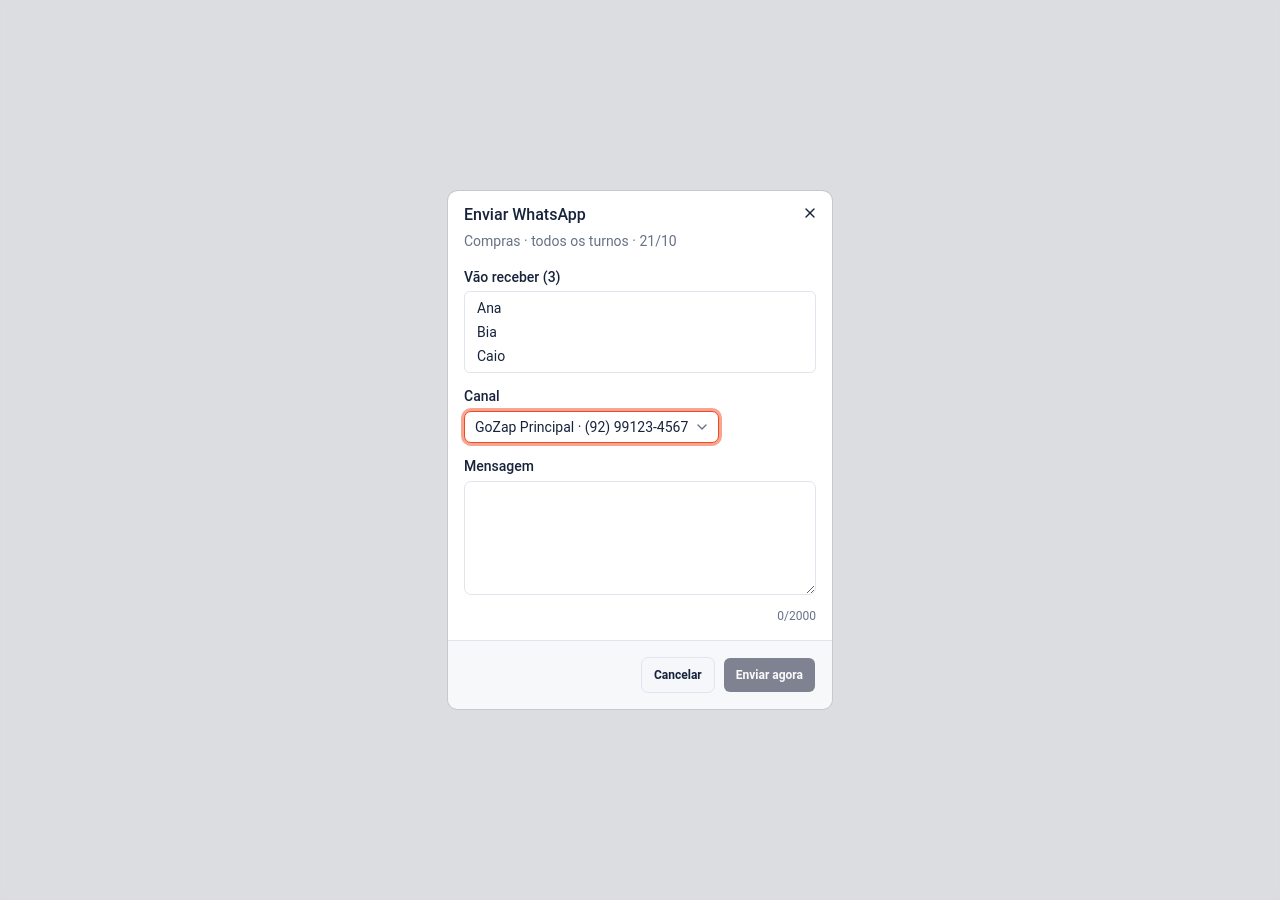
Test: SendWhatsappDialog destino e formulário › pré-seleciona o único canal e só habilita Enviar com texto
Expected: the text "GoZap Principal · (92) 99123-4567" is shown, [475,417,688,437]
Expected: the button "Enviar agora" is disabled, [723,657,816,693]
Type "Oi equipe" into the text box at (640, 538), box [464,481,816,595]
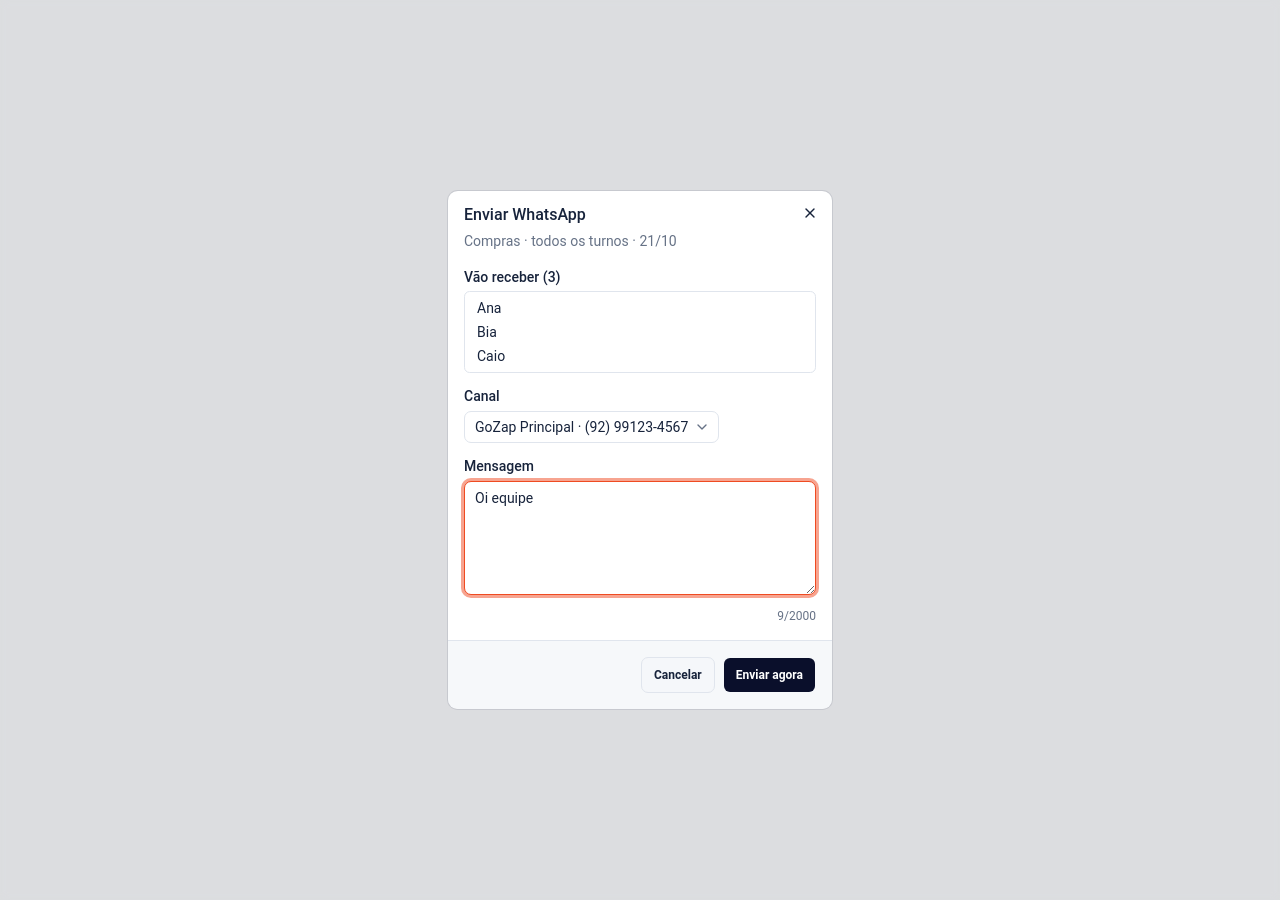
Result: the button "Enviar agora" is enabled at [723,657,816,693]
Result: the text "9/2000" is shown at [777,609,816,623]
